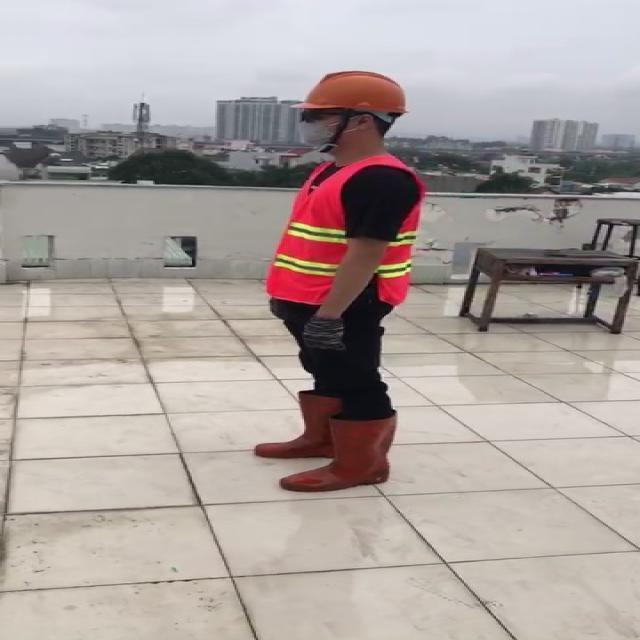gloves: (301, 317, 345, 352)
goggles: (298, 111, 374, 123)
helmet: (293, 69, 412, 117)
safety_vest: (264, 156, 421, 304)
